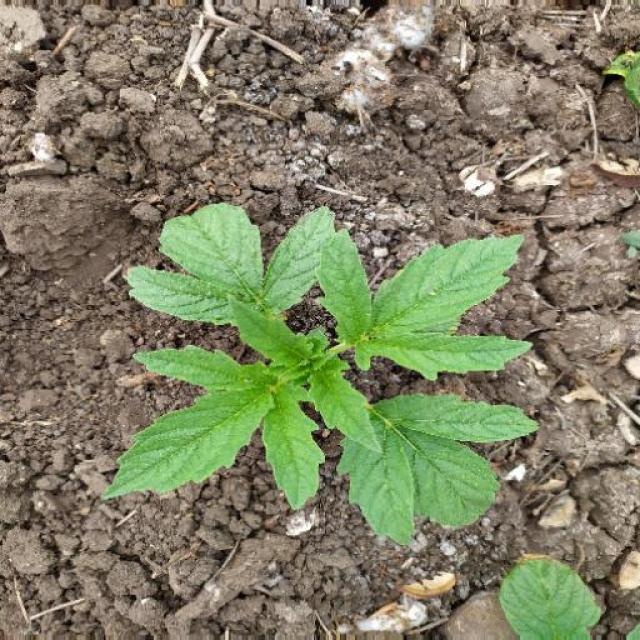crop: (114, 201, 536, 540)
